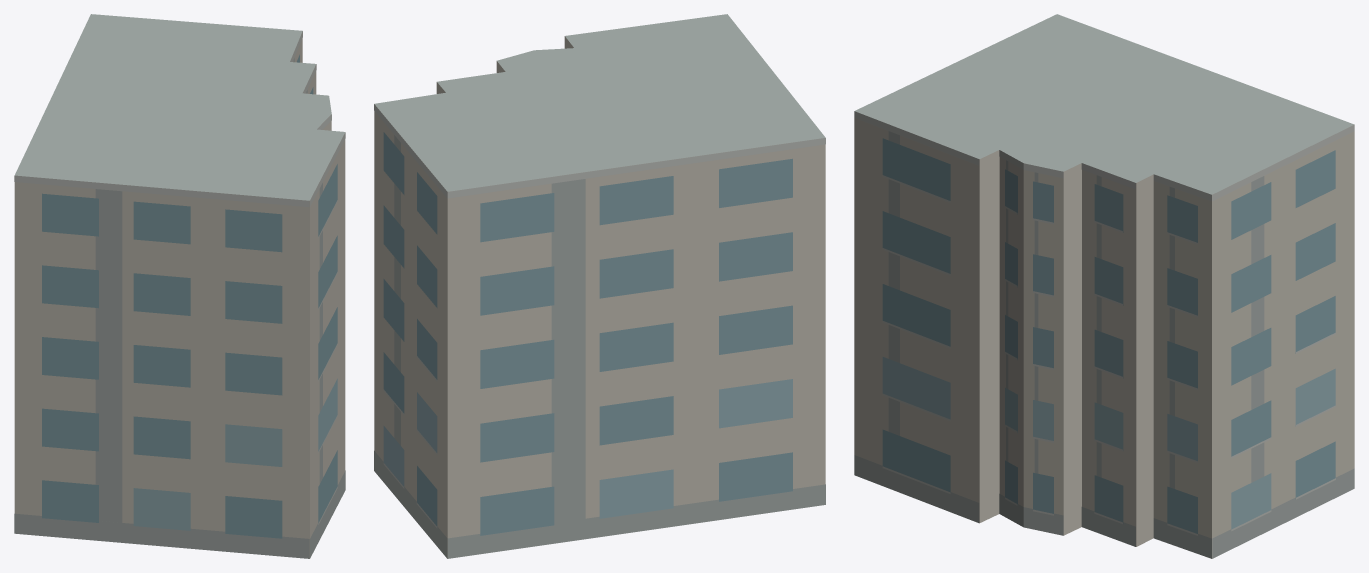
Rendered from survey-upis-32883917.glb.
3 views of the same model, side by side, from view 1: azimuth 30°, elevation 25°; view 2: azimuth 150°, elevation 25°; view 3: azimuth 270°, elevation 25° (orthographic). The views are drawn at different scales.
Parts seen in each view (by area): view 1: survey-upis-32883917.tmp; view 2: survey-upis-32883917.tmp; view 3: survey-upis-32883917.tmp.
Part boxes in pixels (x1,y1,x2,y2): survey-upis-32883917.tmp: (14, 14, 345, 558); survey-upis-32883917.tmp: (374, 14, 825, 558); survey-upis-32883917.tmp: (854, 14, 1354, 558).
Size of the model in its own units: 14.17 by 13.3 by 16.57.
